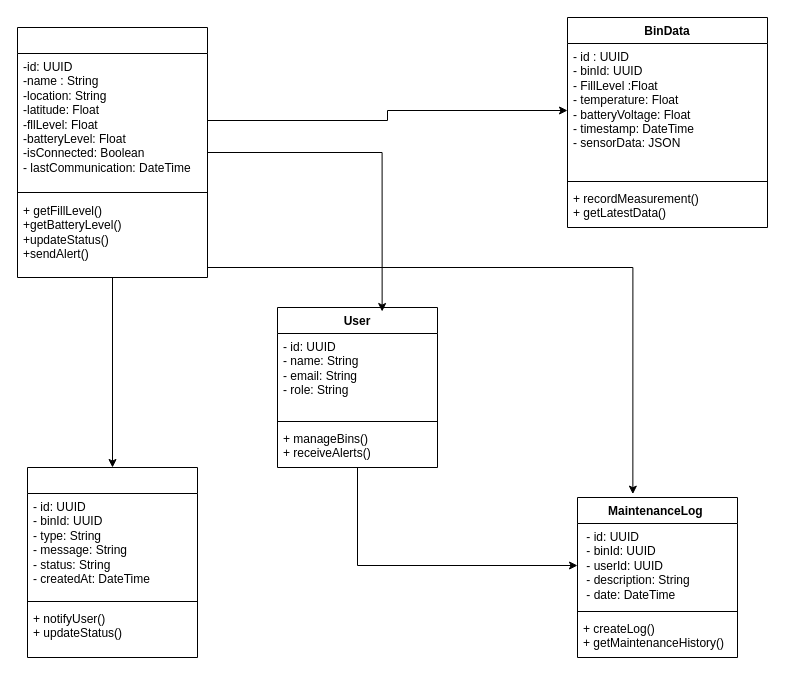
The diagram is 785 pixels wide and 678 high, and some of its shapes have lost their labels. Here are the shapes that lost their labels. From the top down, the box of each, then its label:
(16, 26, 208, 278): Bin
(26, 466, 198, 658): Alert
